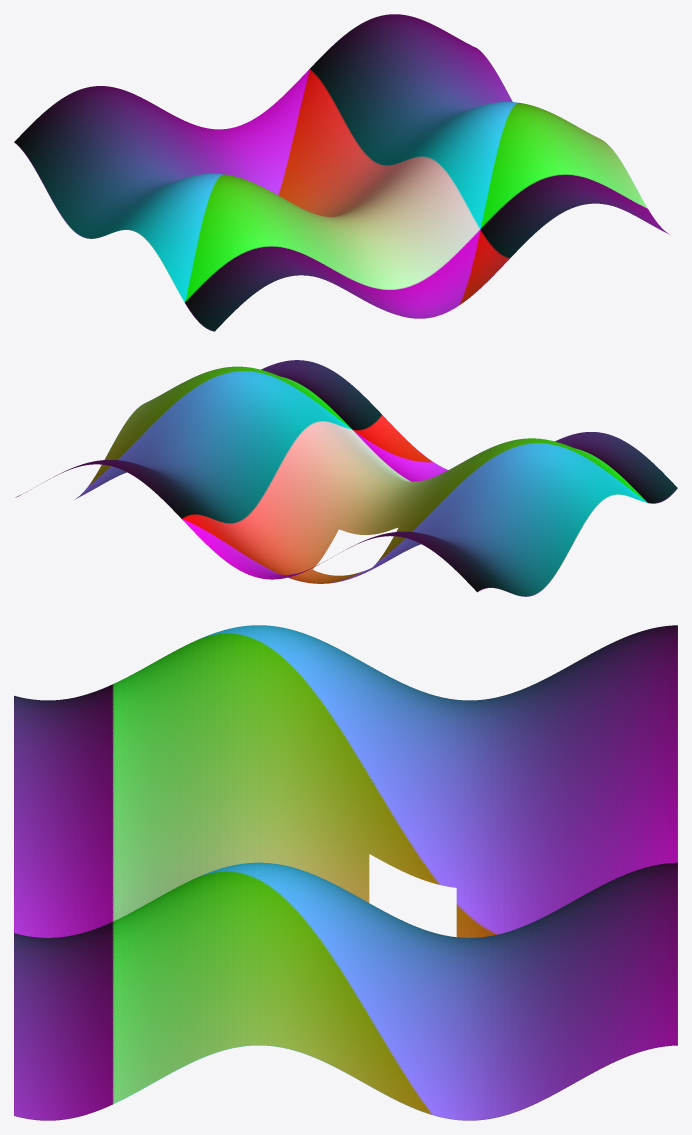
The model's file is test_terrain_relative.glb.
3 renders of one model, top to bottom at view 1: azimuth 30°, elevation 25°; view 2: azimuth 150°, elevation 25°; view 3: azimuth 270°, elevation 25°, orthographic. The views are drawn at different scales.
Parts seen in each view (by area): view 1: geometry_0; view 2: geometry_0; view 3: geometry_0.
Boxes of the visible parts, x1,y1,x2,y2 form: geometry_0: (14,14,669,331); geometry_0: (15,360,677,596); geometry_0: (14,625,677,1120).
Size of the model in its own units: 132 by 33 by 99.
1 material, 1 textured.
